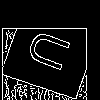U: (25, 27, 80, 77)
